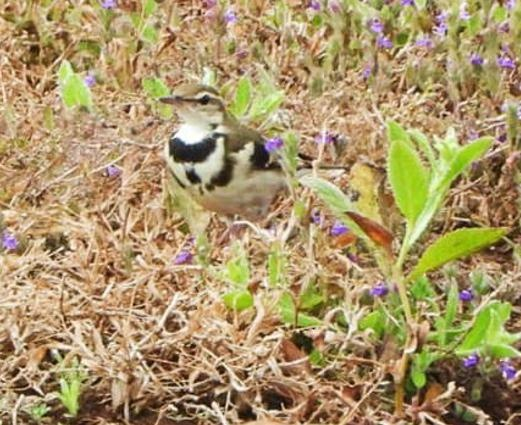wagtail: (158, 76, 307, 231)
